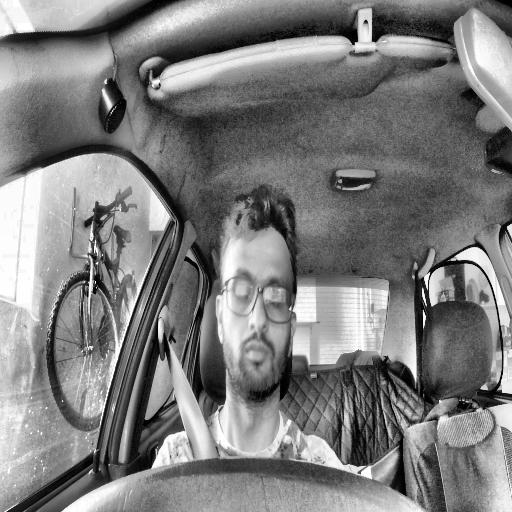drowsy: (214, 182, 298, 405)
